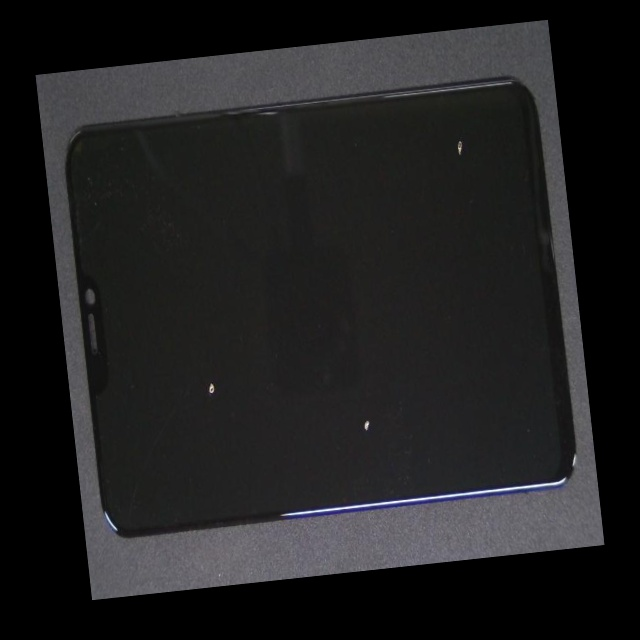stain: (209, 186, 519, 583), (129, 193, 284, 543), (263, 49, 564, 197)
